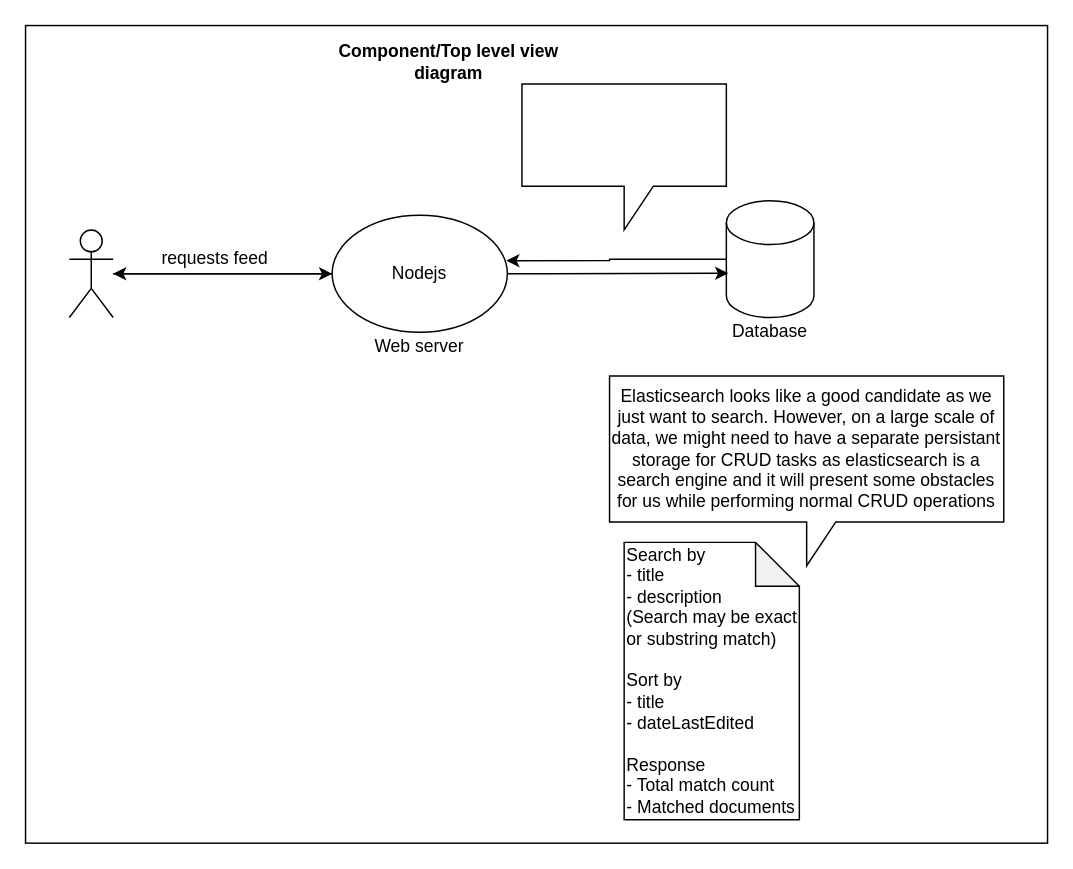
Image size: 1073x869. Some labels were removed from this diagram. Here are the shapes that lost their labels. From the top down, the centre of each, then its label:
At point 623,156: "Feed response with search and sort params as supplied by user".
At point 90,273: "User/UI".
